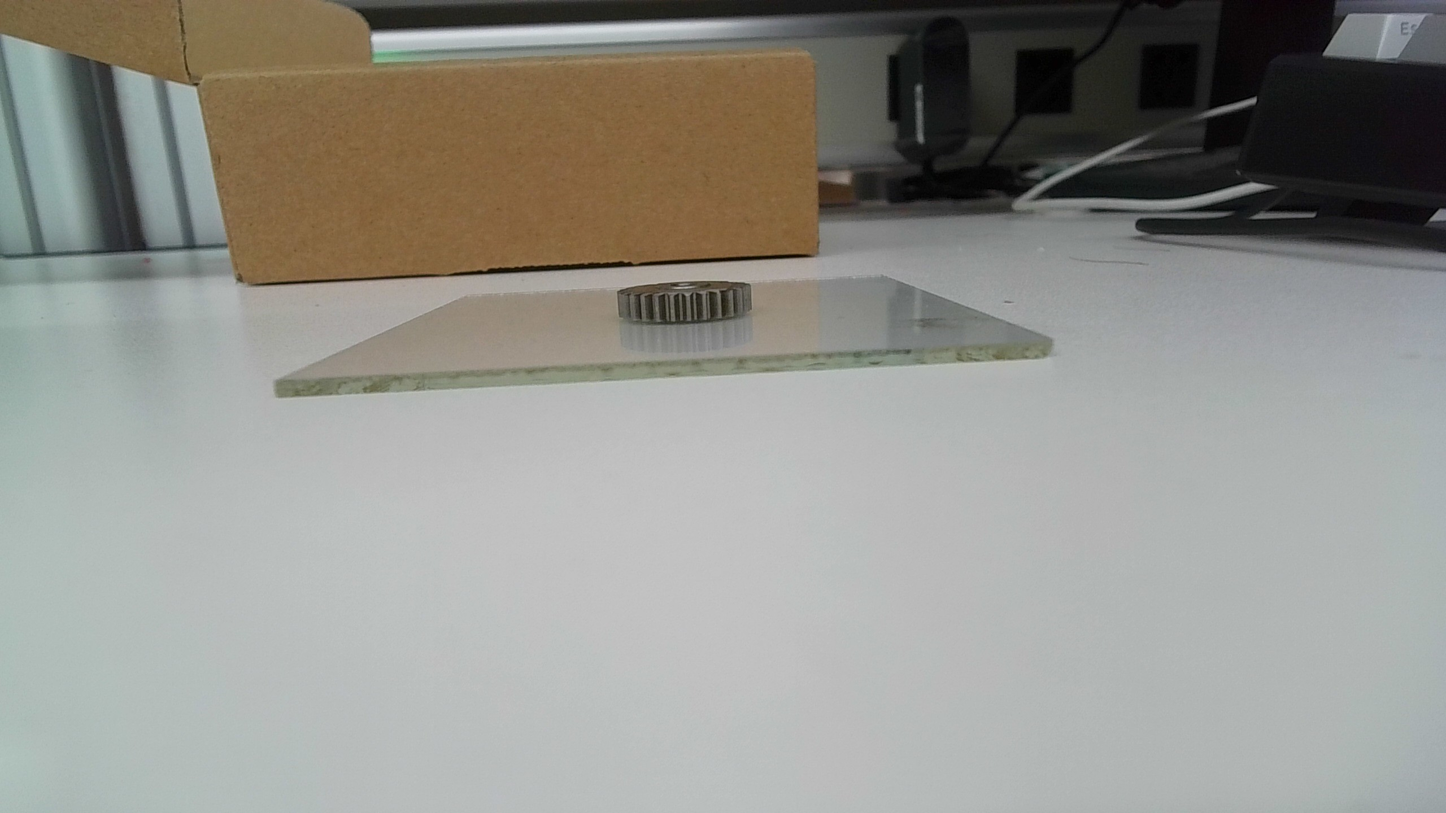gear: (614, 278, 756, 327)
